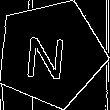N_N: (28, 26, 74, 81)
